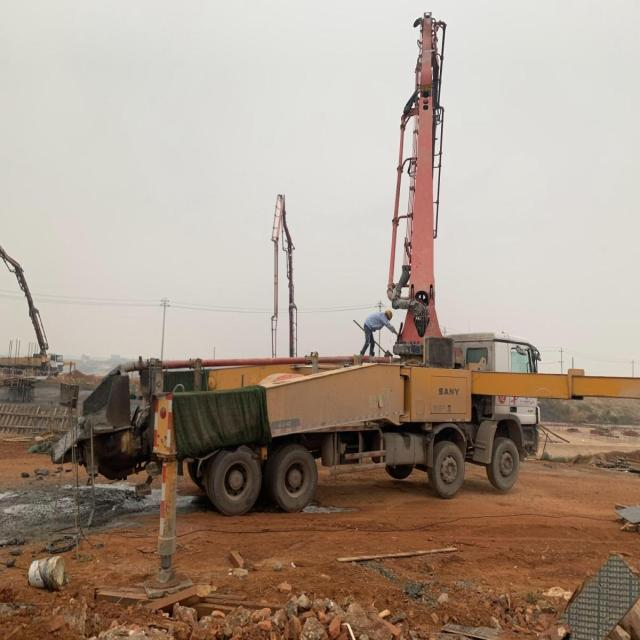truck: (54, 0, 551, 521), (0, 234, 55, 382), (264, 185, 303, 359)
